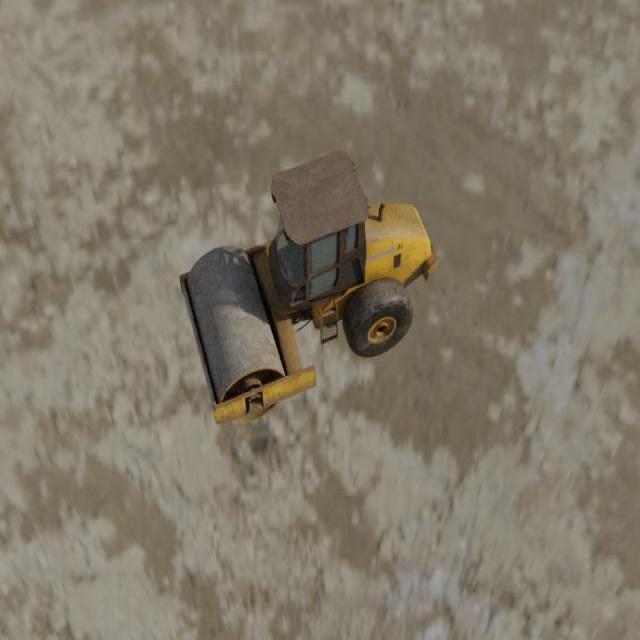Roller: (178, 149, 438, 424)
